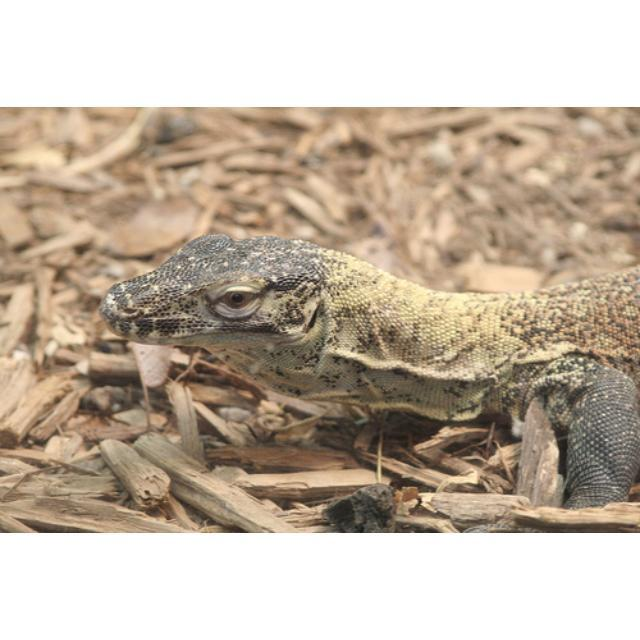KomodoDragon: (97, 230, 638, 509)
